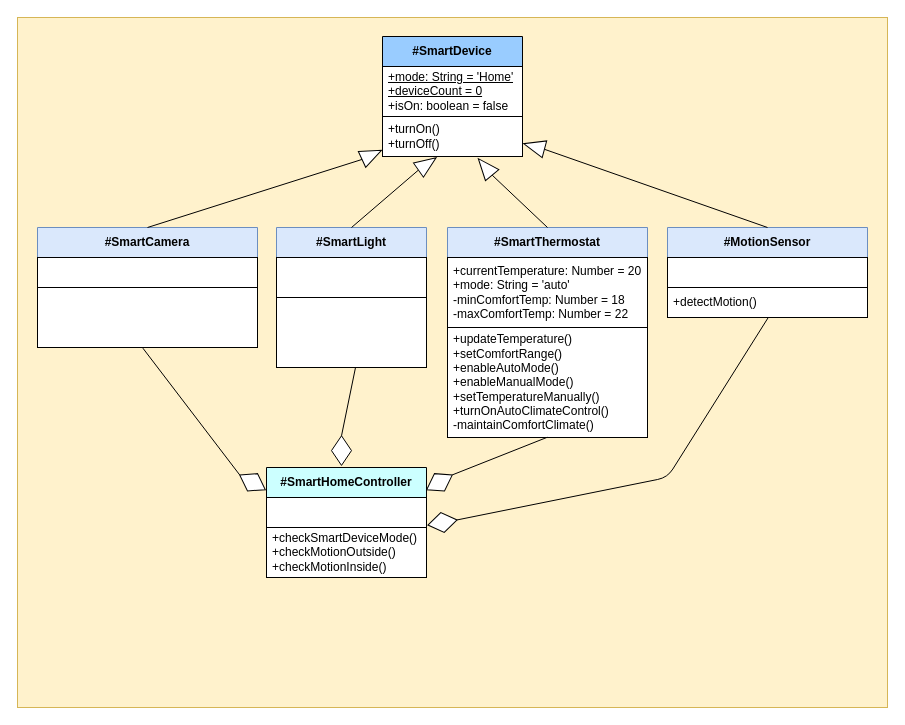
The diagram is 905 pixels wide and 725 high, and some of its shapes have lost their labels. The shapes that lost their labels are listed below. From the top down, each one's centre as x and y in pixels, then its label:
(147,272): -isRecording: boolean = false
(351,277): +brightness: Number = 50 +location: String
(767,272): -motionDetected: boolean = false
(147,317): <<get>> +isRecording: boolean = false +startRecording() +stopRecording()
(351,332): +turnOn() +increaseBrightness() +decreaseBrightness() +setBrightness()
(346,512): +devices: Object = {}
